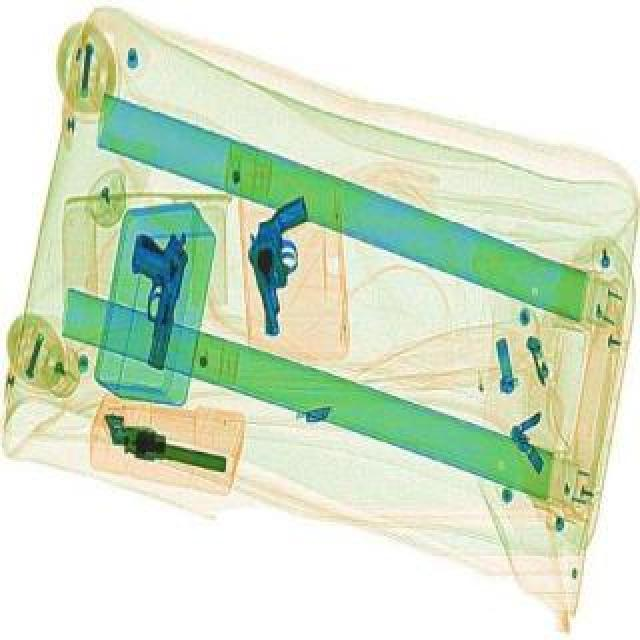gun: (228, 190, 344, 336), (104, 210, 200, 370), (94, 410, 234, 478)
